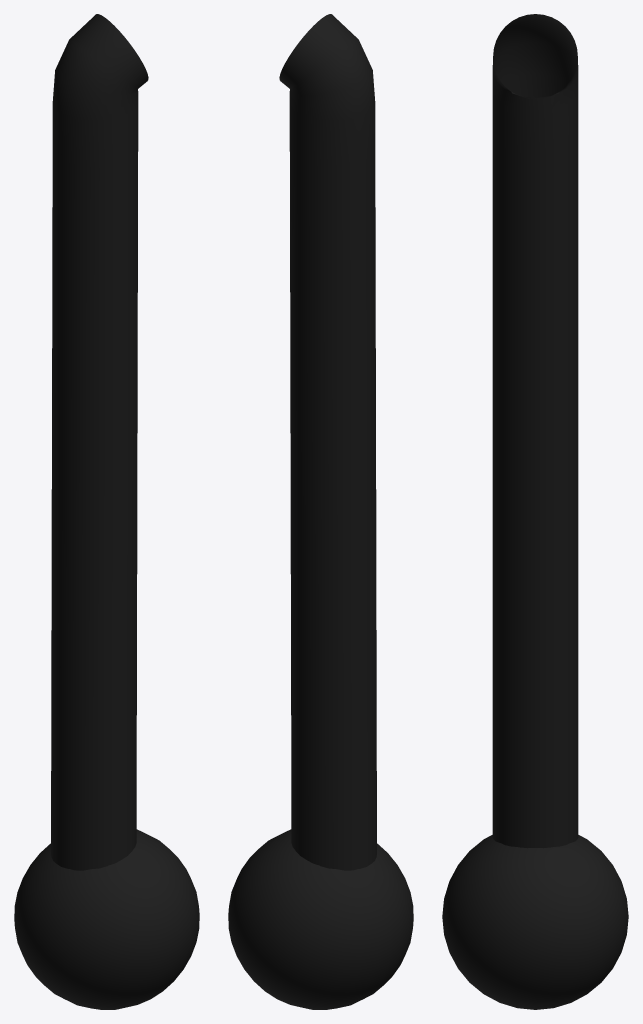
The model's file is arm.fbx.
3 views of the same model, side by side, from view 1: azimuth 30°, elevation 25°; view 2: azimuth 150°, elevation 25°; view 3: azimuth 270°, elevation 25° (orthographic).
Parts seen in each view (by area): view 1: Model.001; view 2: Model.001; view 3: Model.001.
Boxes of the visible parts, left/top/right/bottom form: Model.001: left=14, top=14, right=199, bottom=1009; Model.001: left=228, top=14, right=413, bottom=1009; Model.001: left=442, top=14, right=628, bottom=1009.
Size of the model in its own units: 53.41 by 313 by 53.56.
Materials: 1 (1 with a texture image).
